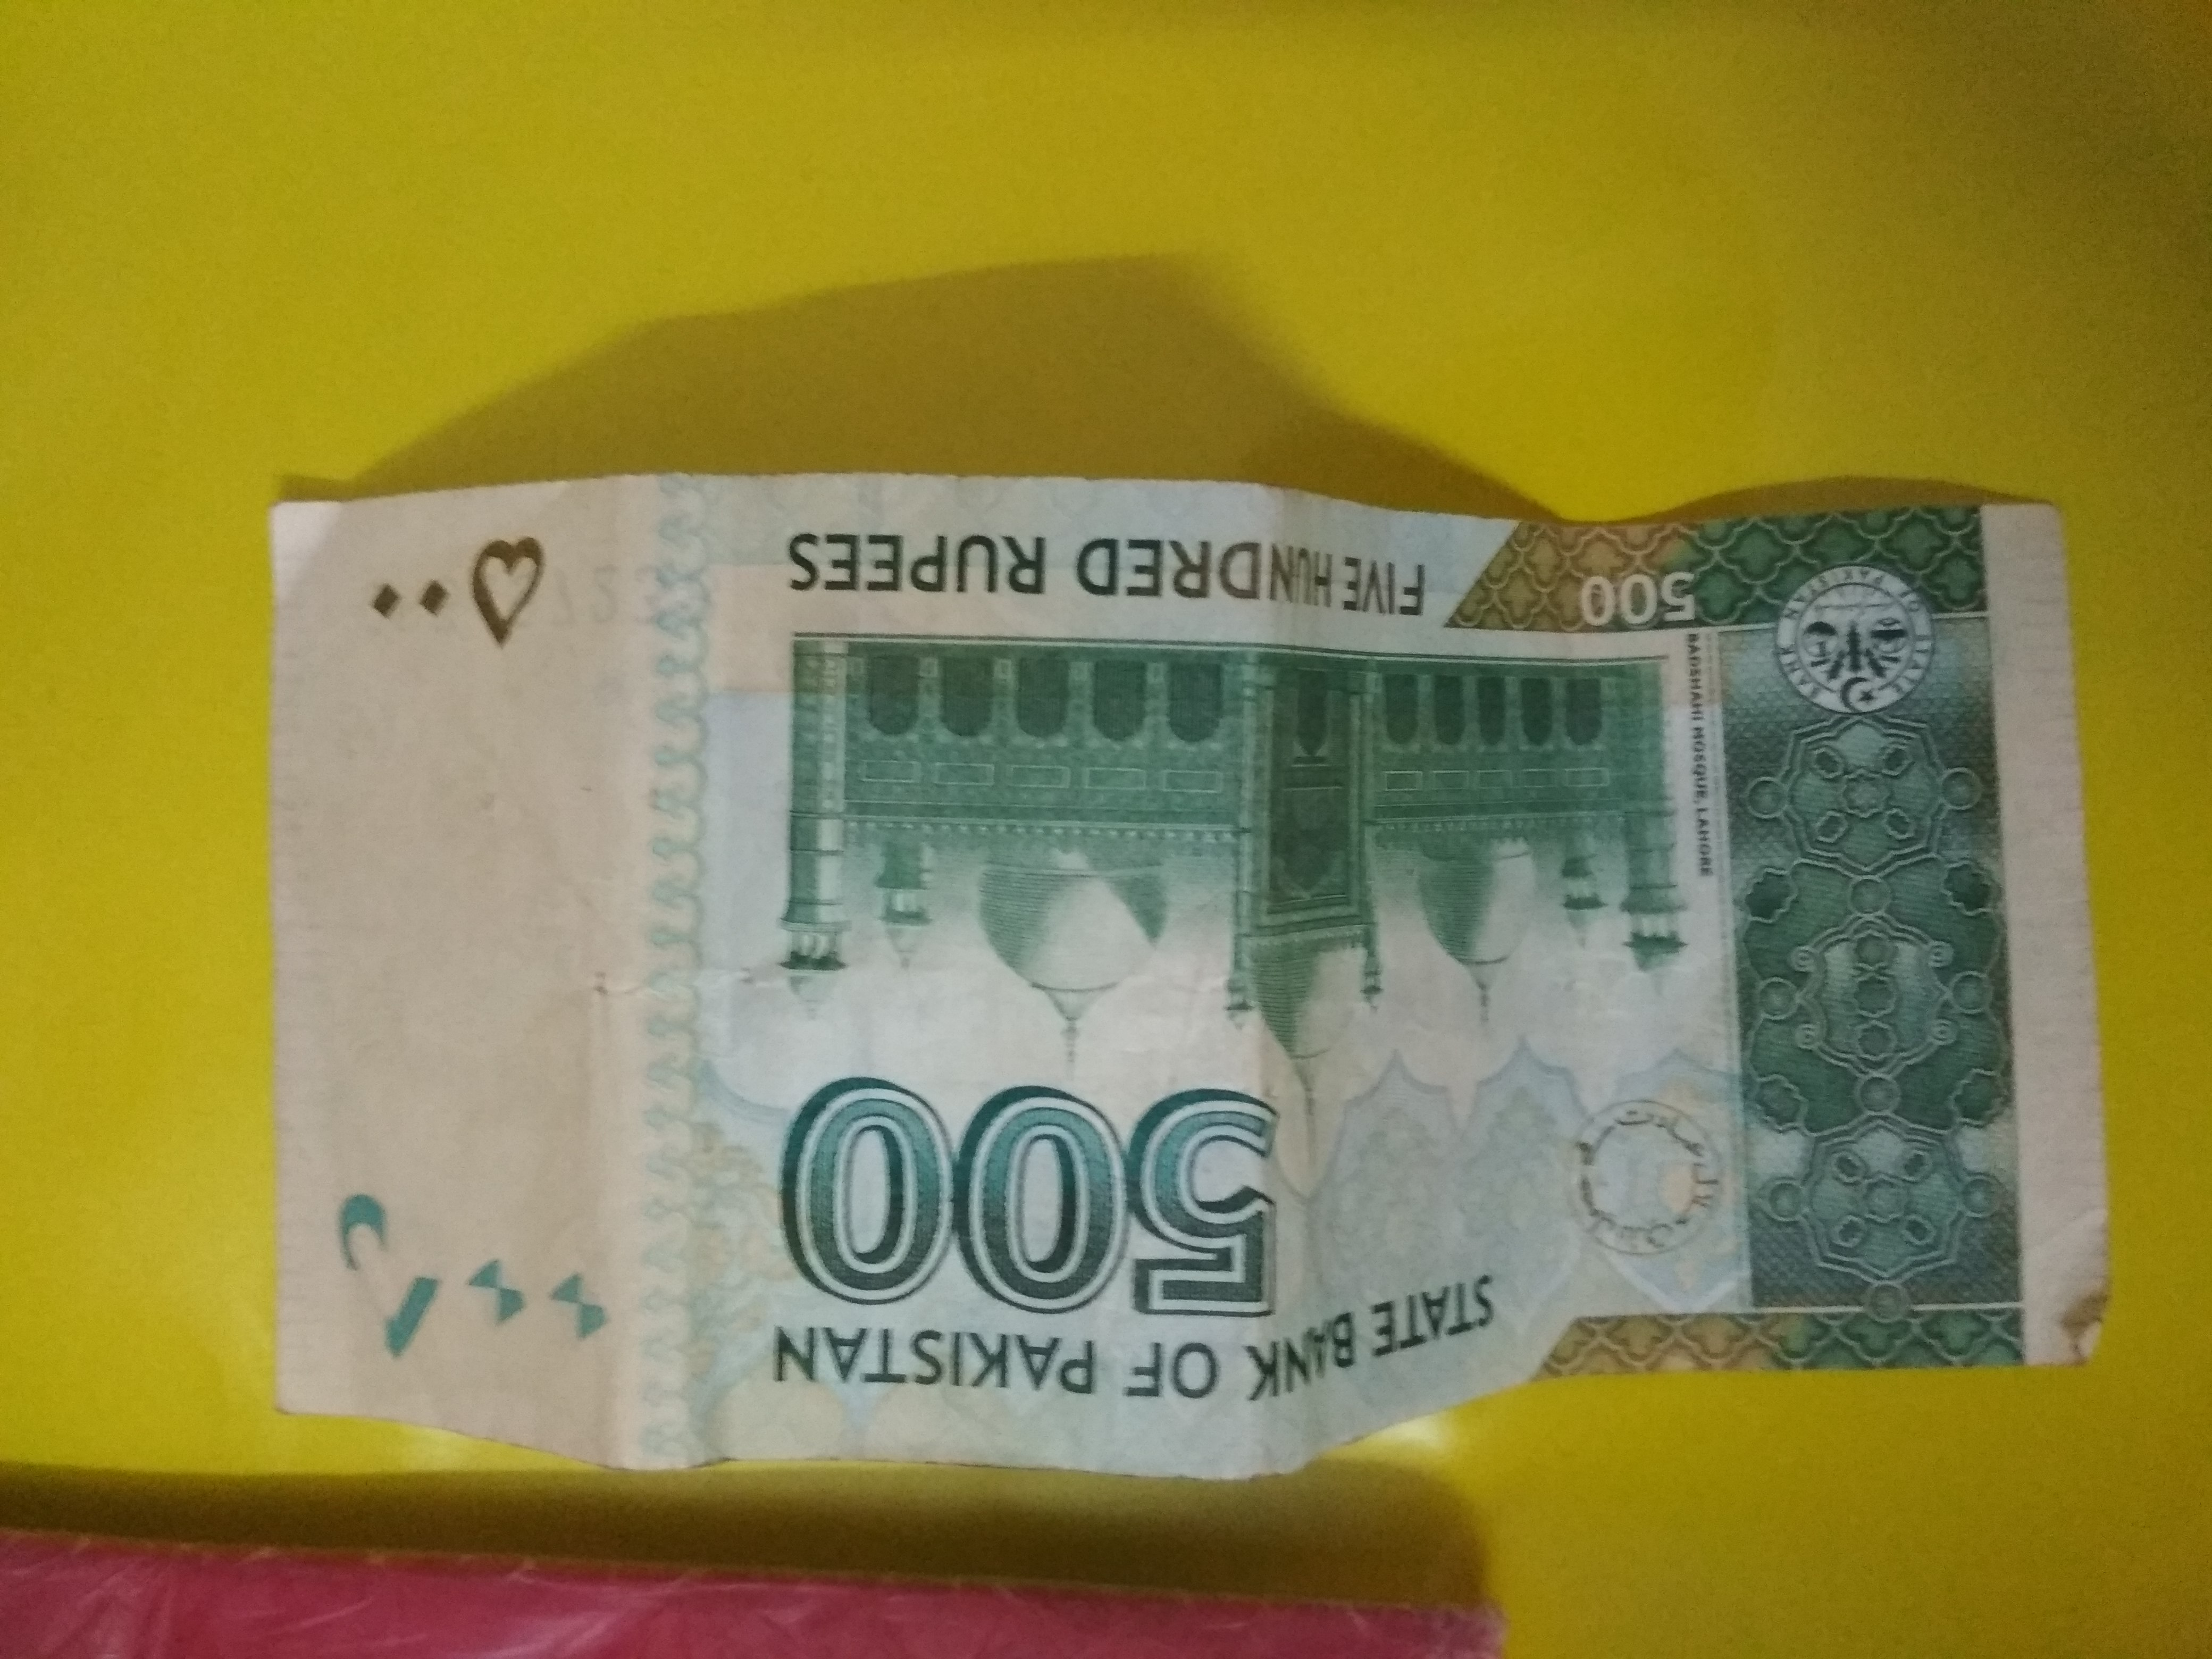500 rupee: (139, 423, 2127, 1542)
